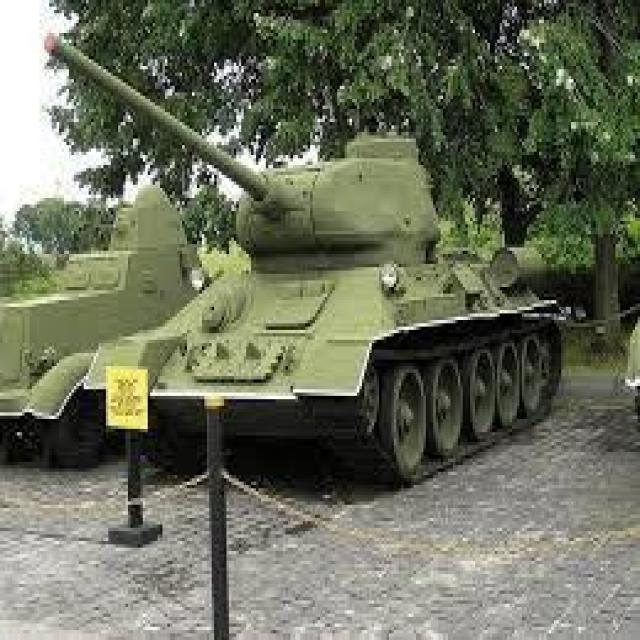Tanks: (79, 102, 571, 492)
